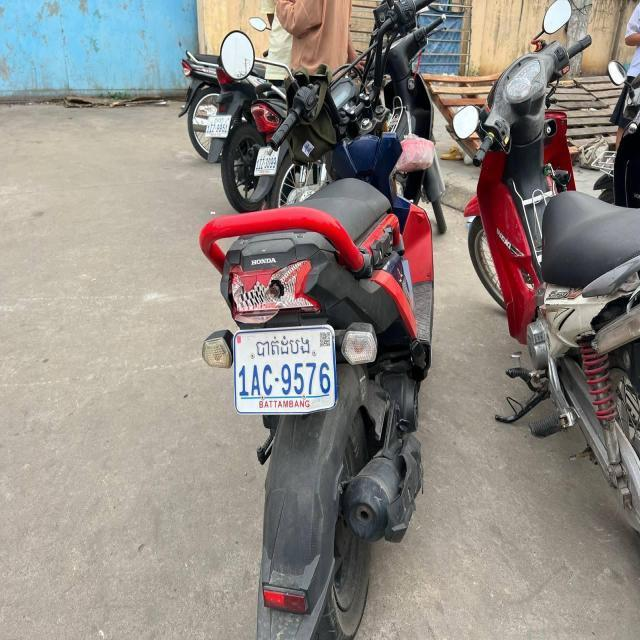Battambang: (254, 334, 314, 358)
